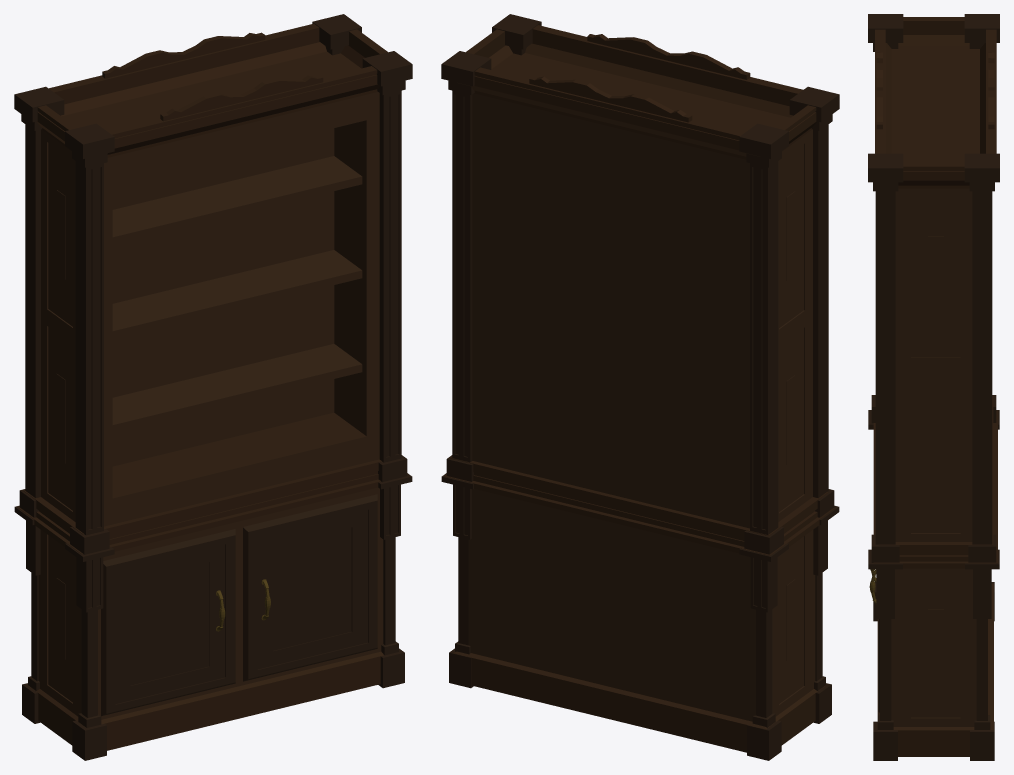
File: Bookcase.obj
3 renders of one model, left to right at view 1: azimuth 30°, elevation 25°; view 2: azimuth 150°, elevation 25°; view 3: azimuth 270°, elevation 25°, orthographic. The views are drawn at different scales.
Parts seen in each view (by area): view 1: BookCase_Single_Cube, BookCase_RightDoor_Cube.005, BookCase_LeftDoor_Cube.001; view 2: BookCase_Single_Cube; view 3: BookCase_Single_Cube, BookCase_RightDoor_Cube.005.
Part boxes in pixels (x1,y1,x2,y2): BookCase_Single_Cube: [14, 14, 412, 760]; BookCase_RightDoor_Cube.005: [243, 494, 377, 681]; BookCase_LeftDoor_Cube.001: [101, 529, 235, 716]; BookCase_Single_Cube: [441, 14, 839, 760]; BookCase_Single_Cube: [868, 14, 999, 760]; BookCase_RightDoor_Cube.005: [869, 569, 879, 712].
Size of the model in its own units: 1.84 by 3.37 by 0.6644.
